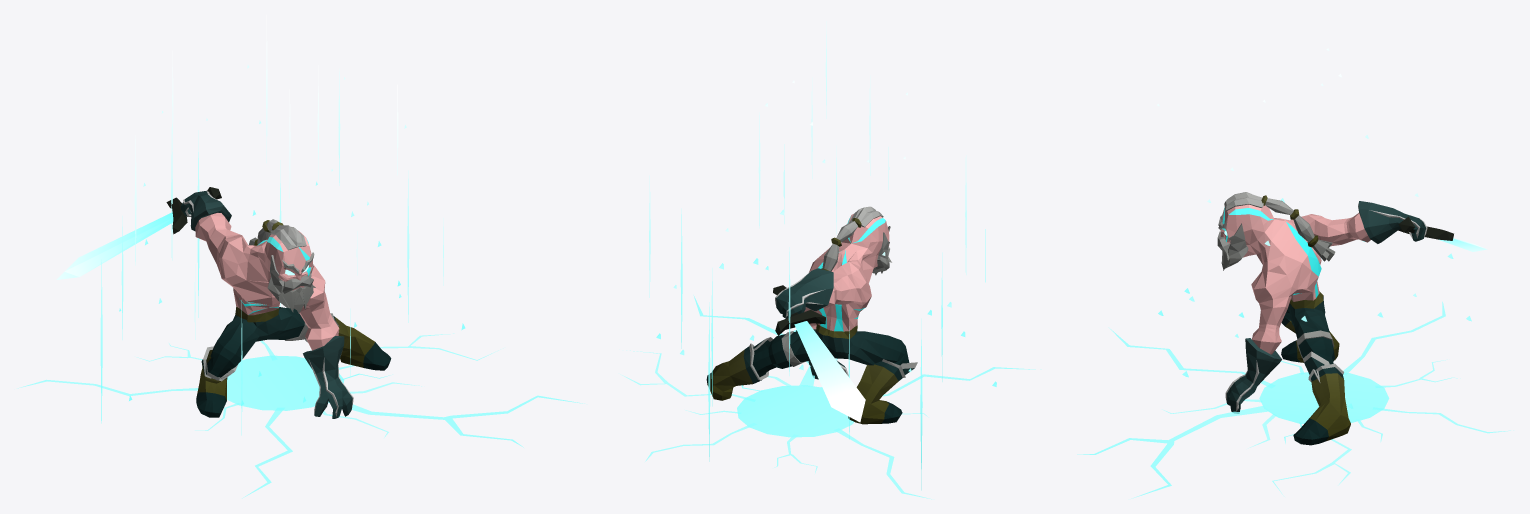
Rendered from hunter.glb.
3 views of the same model, side by side, from view 1: azimuth 30°, elevation 25°; view 2: azimuth 150°, elevation 25°; view 3: azimuth 270°, elevation 25° (orthographic). The views are drawn at different scales.
Parts seen in each view (by area): view 1: LeaderWarrior, MagicSpell, DragonKillerSword; view 2: LeaderWarrior, MagicSpell, DragonKillerSword; view 3: LeaderWarrior, MagicSpell, DragonKillerSword.
Boxes of the visible parts, x1,y1,x2,y2 form: LeaderWarrior: (180, 190, 391, 418); MagicSpell: (17, 15, 584, 498); DragonKillerSword: (56, 187, 221, 279); LeaderWarrior: (706, 206, 917, 424); MagicSpell: (620, 21, 1041, 499); DragonKillerSword: (773, 285, 865, 422); LeaderWarrior: (1217, 192, 1427, 445); MagicSpell: (1077, 48, 1513, 498); DragonKillerSword: (1398, 216, 1487, 251).
Bounding box in the file's own units: 3.23 × 2.88 × 3.03.
Materials: 2 (2 with a texture image).
